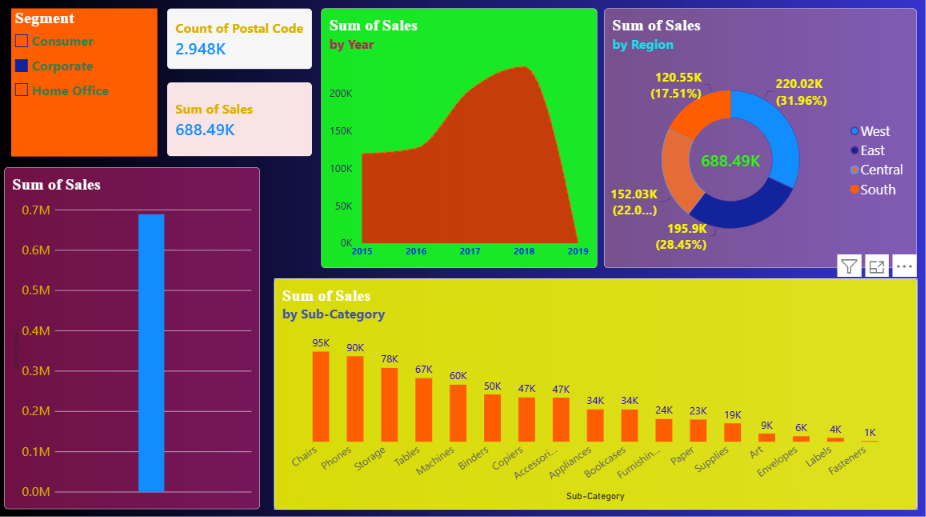

The dashboard page shown, as its layout file describes it:
{"tool":"powerbi","page":{"name":"Page 1","canvas":[1920,1080],"ordinal":0},"visuals":[{"type":"cardVisual","fields":{"Data":["Sum(train.Sales)"]},"box":[354,172.9,298.5,152.3],"z":0},{"type":"cardVisual","fields":{"Data":["CountNonNull(train.Postal Code)"]},"box":[354,20.6,298.5,125.6],"z":1},{"type":"clusteredColumnChart","fields":{"Y":["Sum(train.Sales)"]},"box":[18.8,348.6,526,703.5],"z":2},{"type":"donutChart","fields":{"Category":["train.Region"],"Y":["Sum(train.Sales)"]},"box":[1254.5,20.9,642.9,534.4],"z":3},{"type":"slicer","fields":{"Values":["train.Segment"]},"box":[32.9,20.6,300.5,304.6],"z":4},{"type":"clusteredColumnChart","fields":{"Category":["train.Sub-Category"],"Y":["Sum(train.Sales)"]},"box":[574,576.1,1323.4,475.9],"z":5},{"type":"stackedAreaChart","fields":{"Category":["train.Ship Date.Variation.Date Hierarchy.Year","train.Ship Date.Variation.Date Hierarchy.Quarter","train.Ship Date.Variation.Date Hierarchy.Month","train.Ship Date.Variation.Date Hierarchy.Day"],"Y":["Sum(train.Sales)"]},"box":[670.1,20.9,567.8,534.4],"z":6}]}

Visuals, with their boxes in screenshot pixels (x1, y1, x2, y2), scaled from the page's 1920x1080 canvas onto the 926x517 screenshot:
cardVisual - Sum(train.Sales): (171, 83, 315, 156)
cardVisual - CountNonNull(train.Postal Code): (171, 10, 315, 70)
clusteredColumnChart - Sum(train.Sales): (9, 167, 263, 504)
donutChart - train.Region x Sum(train.Sales): (605, 10, 915, 266)
slicer - train.Segment: (16, 10, 161, 156)
clusteredColumnChart - train.Sub-Category x Sum(train.Sales): (277, 276, 915, 504)
stackedAreaChart - train.Ship Date.Variation.Date Hierarchy.Year x train.Ship Date.Variation.Date Hierarchy.Quarter: (323, 10, 597, 266)
